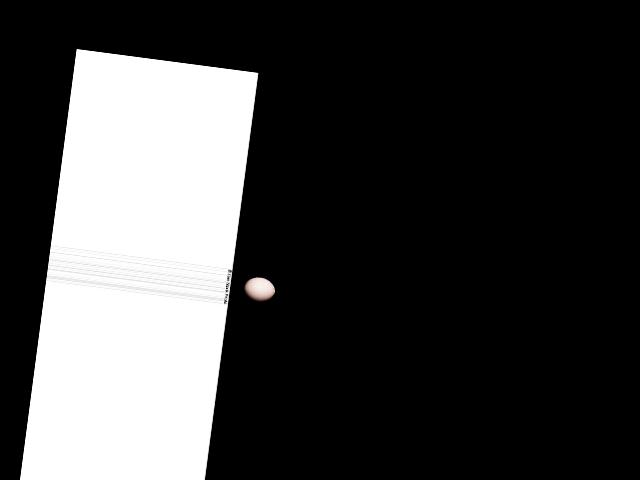egg: (241, 275, 276, 303)
